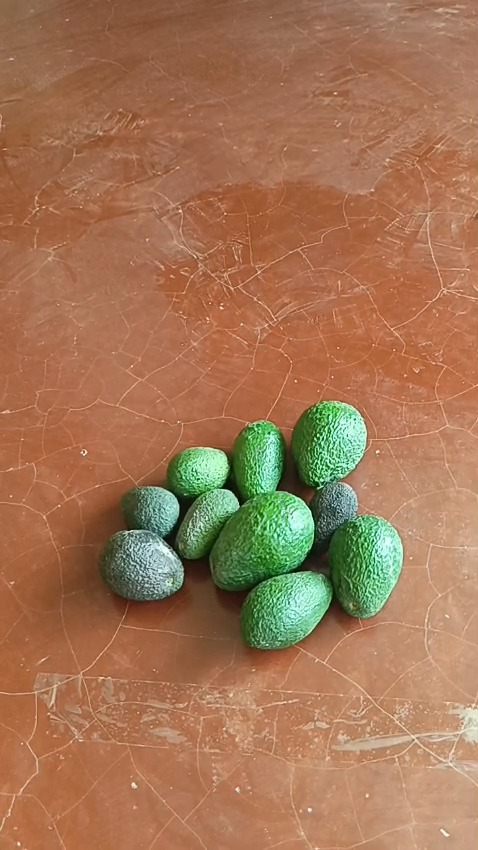Primera: (209, 490, 315, 590), (327, 514, 404, 618), (289, 399, 368, 486)
Segunda: (238, 569, 333, 649), (97, 528, 185, 602), (230, 420, 285, 500)
Tercera: (175, 487, 240, 559), (307, 481, 357, 556), (166, 446, 230, 501), (120, 485, 180, 540)
